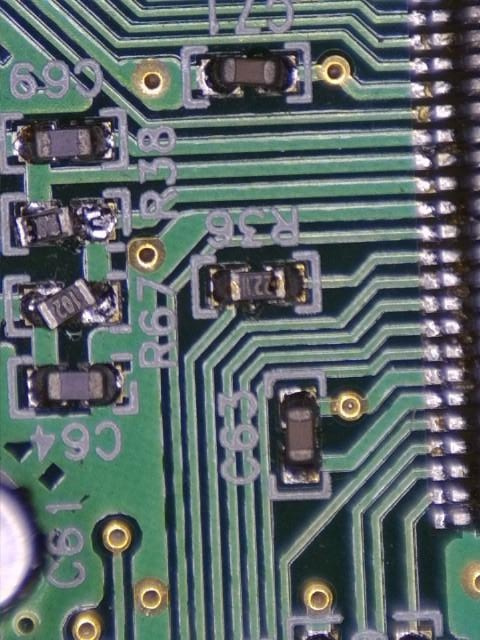pcb_defect: (8, 198, 116, 249), (20, 277, 120, 331), (195, 55, 299, 97)
